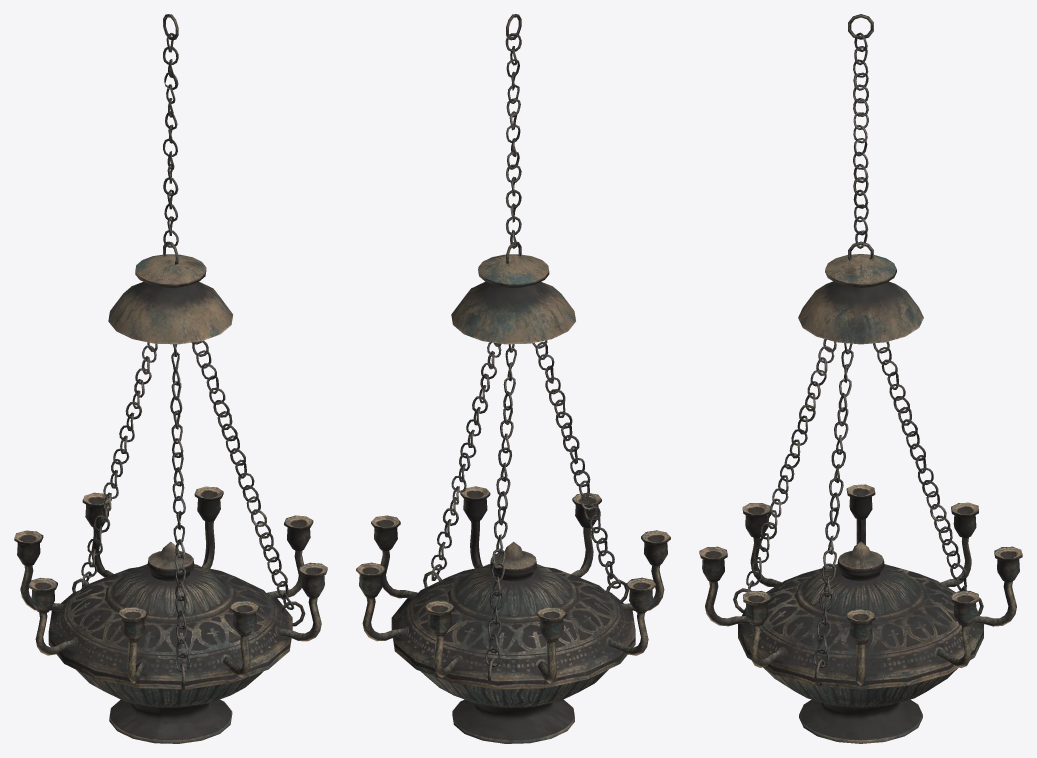
The picture shows the model from 3 angles, left to right: view 1: azimuth 30°, elevation 25°; view 2: azimuth 150°, elevation 25°; view 3: azimuth 270°, elevation 25°; orthographic projection.
Visible parts, largest first — view 1: SM_Censer02_LOD0; view 2: SM_Censer02_LOD0; view 3: SM_Censer02_LOD0.
Boxes of the visible parts, x1,y1,x2,y2 form: SM_Censer02_LOD0: (14, 14, 327, 743); SM_Censer02_LOD0: (356, 14, 670, 743); SM_Censer02_LOD0: (699, 14, 1022, 743).
Bounding box in the file's own units: 5.22 × 12.52 × 5.22.
1 material, 1 textured.
